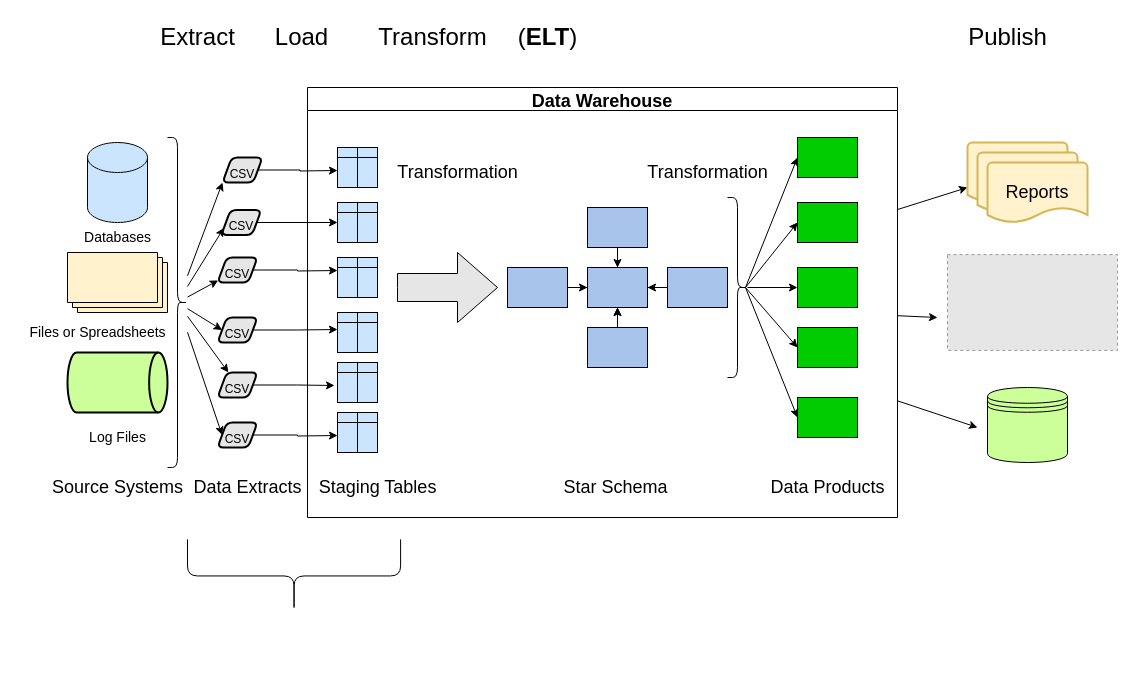
Some shapes in this 1135 by 674 pixel diagram are drawn without their labels. Grey dashed boxes stand in for pictures. Each missing label, with the centre of its shape:
"Data Lake" goes at pixel 293 575.
"Data Stores" goes at pixel 1027 424.
"DB" goes at pixel 117 182.
